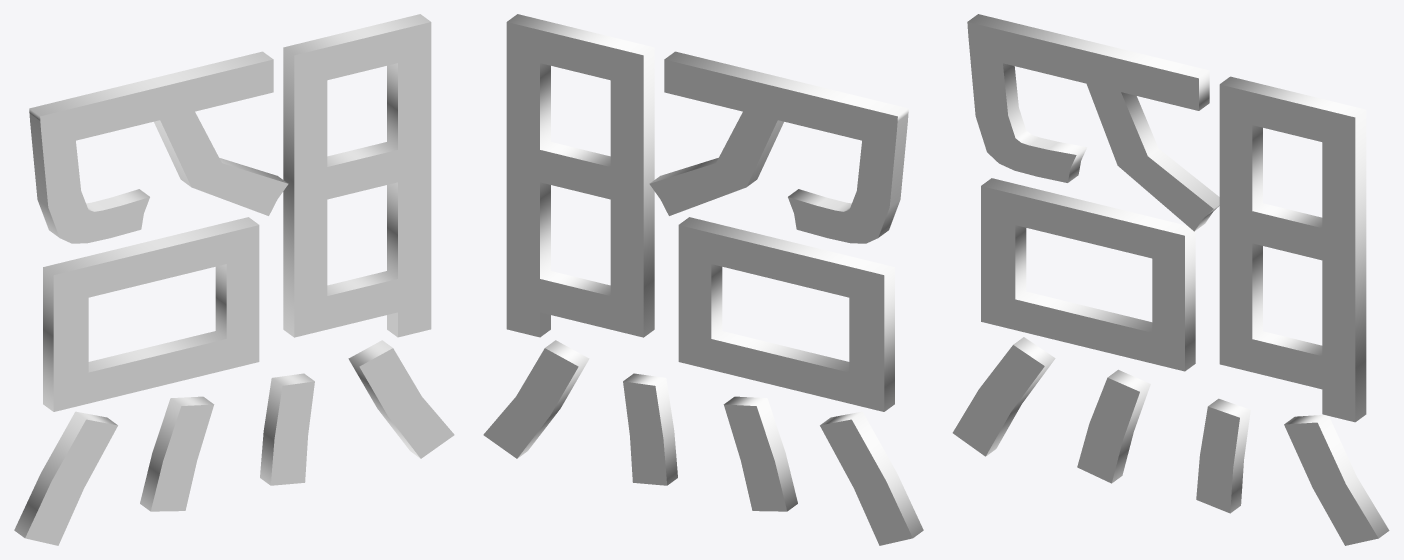
The model's file is Syo.obj.
3 renders of one model, left to right at view 1: azimuth 30°, elevation 25°; view 2: azimuth 150°, elevation 25°; view 3: azimuth 330°, elevation 25°, orthographic.
Parts seen in each view (by area): view 1: テキスト; view 2: テキスト; view 3: テキスト.
Boxes of the visible parts, box(x1,y1,x2,y2) form: テキスト: box(14, 14, 454, 545); テキスト: box(483, 14, 923, 545); テキスト: box(952, 14, 1389, 545).
Size of the model in its own units: 0.913 by 0.884 by 0.04.
1 material, 1 textured.
